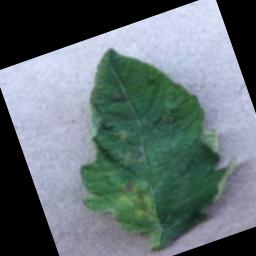Leaf_Mold: (110, 173, 161, 231)
